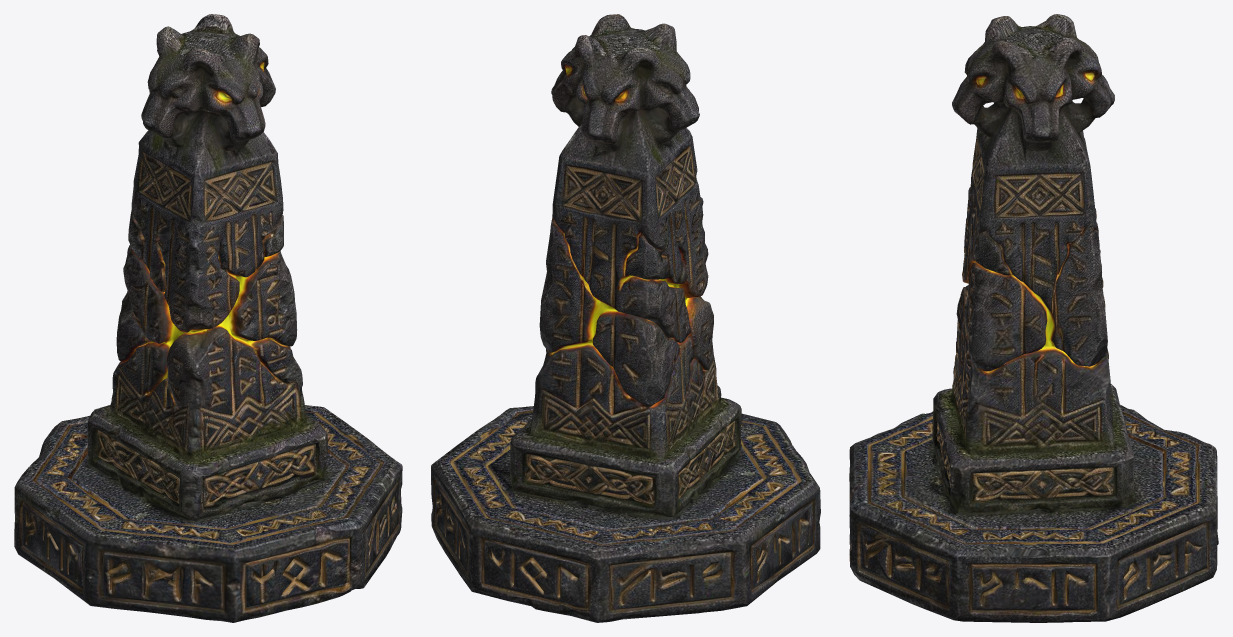
The model's file is oraculo_preto.glb.
3 renders of one model, left to right at view 1: azimuth 30°, elevation 25°; view 2: azimuth 150°, elevation 25°; view 3: azimuth 270°, elevation 25°, orthographic.
Visible parts, largest first — view 1: tripo_node_93361415-490f-4378-ab95-e147e4ab8f80; view 2: tripo_node_93361415-490f-4378-ab95-e147e4ab8f80; view 3: tripo_node_93361415-490f-4378-ab95-e147e4ab8f80.
Part boxes in pixels (x1=…): tripo_node_93361415-490f-4378-ab95-e147e4ab8f80: x1=14, y1=14, x2=402, y2=622; tripo_node_93361415-490f-4378-ab95-e147e4ab8f80: x1=431, y1=14, x2=820, y2=622; tripo_node_93361415-490f-4378-ab95-e147e4ab8f80: x1=849, y1=14, x2=1218, y2=622.
Size of the model in its own units: 0.6326 by 0.9796 by 0.6333.
Materials: 1 (1 with a texture image).
